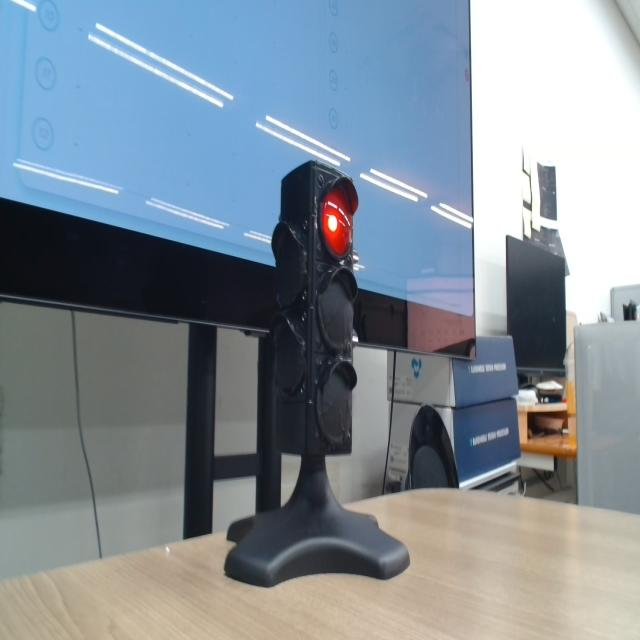red_light: (322, 188, 353, 258)
